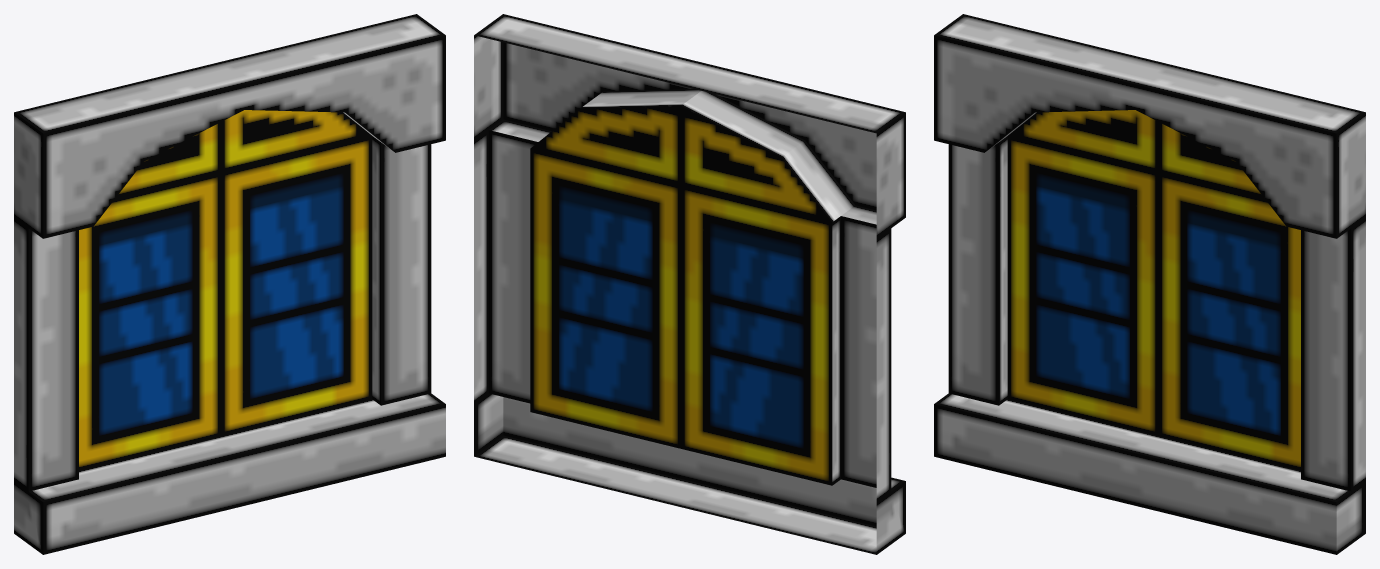
The model's file is arch_window_stoneArch.FBX.
The picture shows the model from 3 angles, left to right: view 1: azimuth 30°, elevation 25°; view 2: azimuth 150°, elevation 25°; view 3: azimuth 330°, elevation 25°; orthographic projection.
Parts seen in each view (by area): view 1: arch_window_stoneArch; view 2: arch_window_stoneArch; view 3: arch_window_stoneArch.
Part boxes in pixels (box(x1,y1,x2,y2)): arch_window_stoneArch: box(14, 14, 445, 554); arch_window_stoneArch: box(474, 14, 905, 554); arch_window_stoneArch: box(934, 14, 1365, 554).
Size of the model in its own units: 3 by 3 by 0.375.
Materials: 1 (1 with a texture image).
